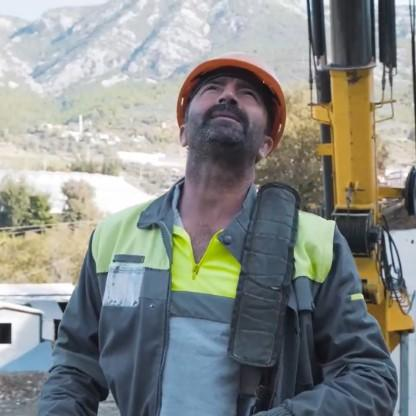helmet: (151, 49, 315, 205)
